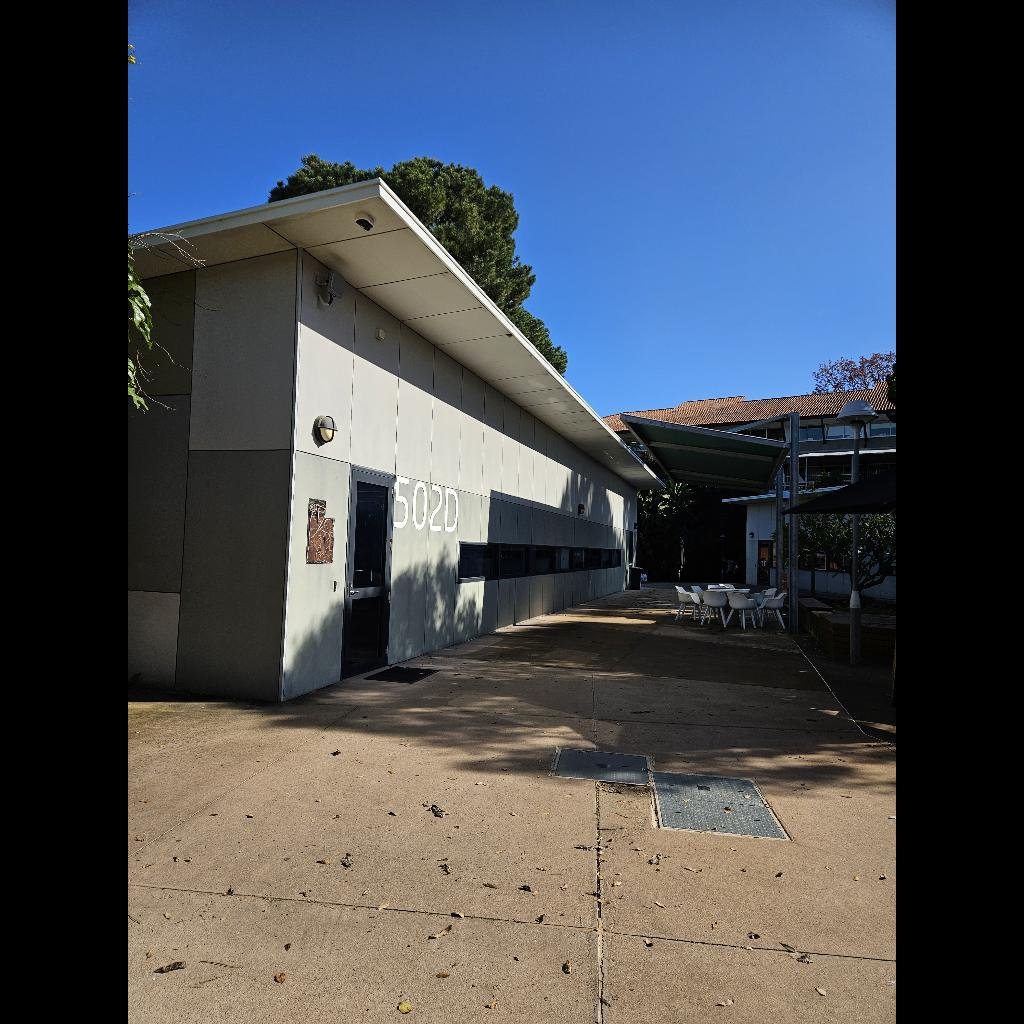BuildingCodes: (393, 475, 459, 533)
